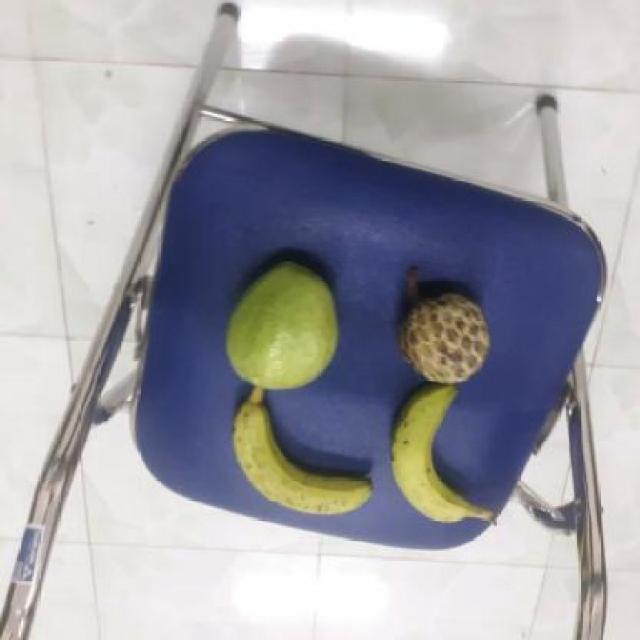banana: (226, 393, 374, 515), (384, 386, 488, 522)
guava: (221, 258, 341, 388)
sugar apple: (394, 290, 492, 385)
